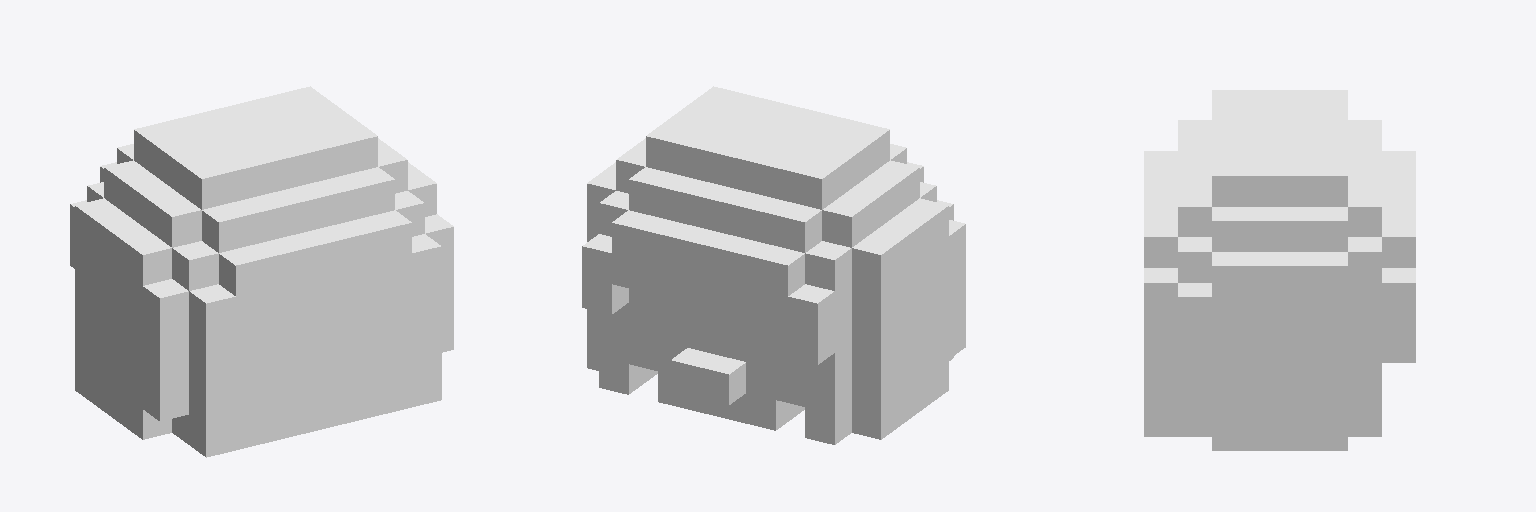
File: TETE.obj
3 renders of one model, left to right at view 1: azimuth 30°, elevation 25°; view 2: azimuth 150°, elevation 25°; view 3: azimuth 270°, elevation 25°, orthographic.
Parts seen in each view (by area): view 1: object 1; view 2: object 1; view 3: object 1.
Part boxes in pixels (x1,y1,x2,y2): object 1: (70, 86, 453, 457); object 1: (582, 86, 965, 444); object 1: (1144, 90, 1415, 450).
Size of the model in its own units: 1 by 0.8 by 0.8.